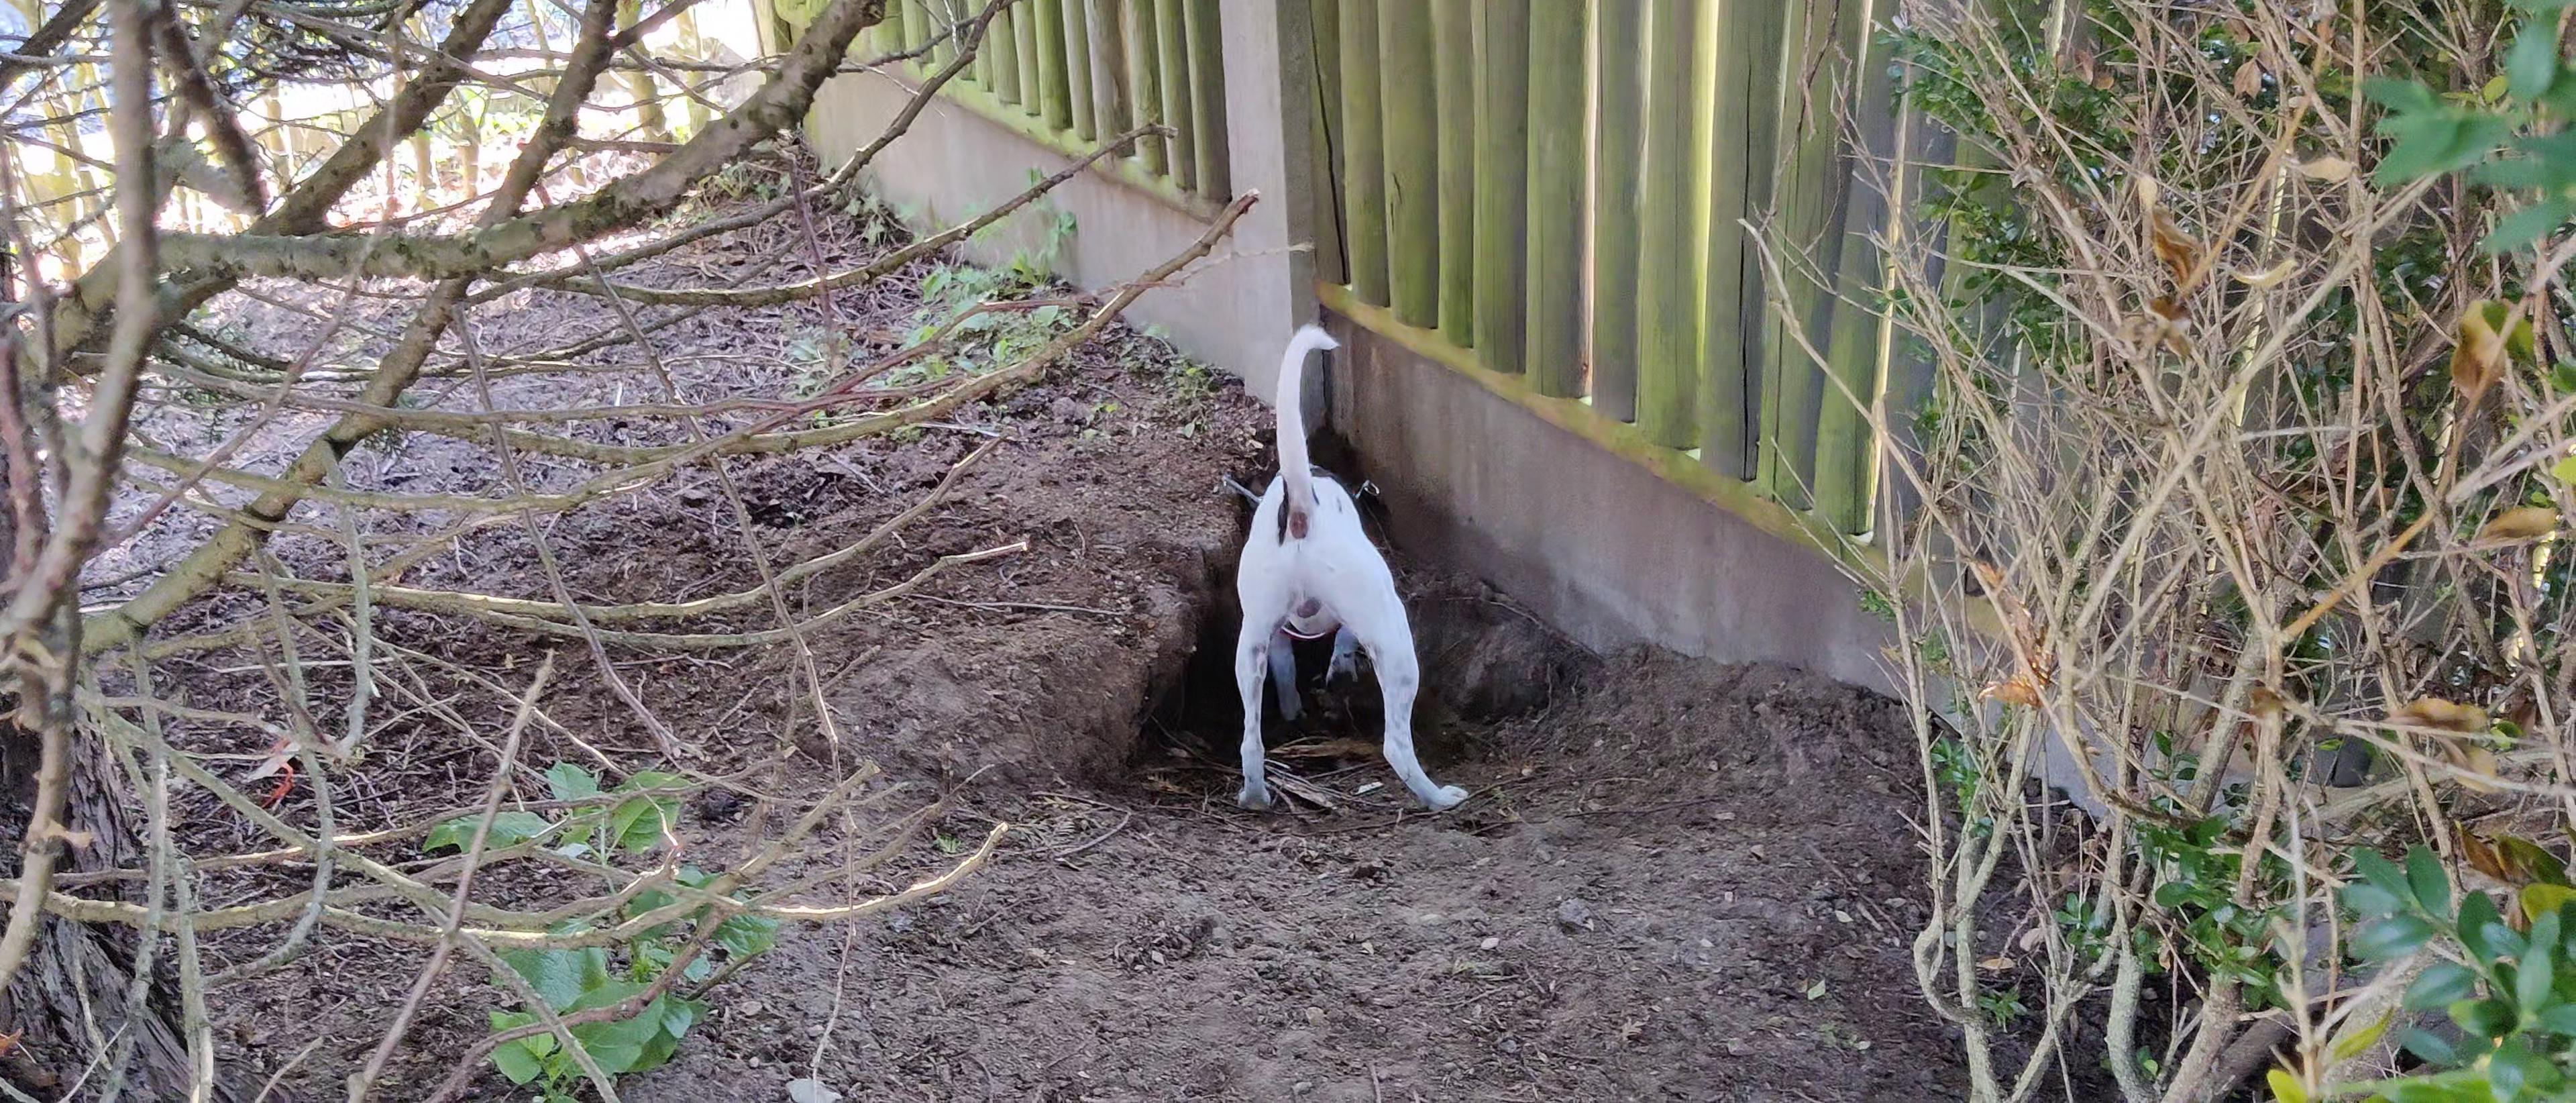Dog: (1186, 299, 1477, 820)
